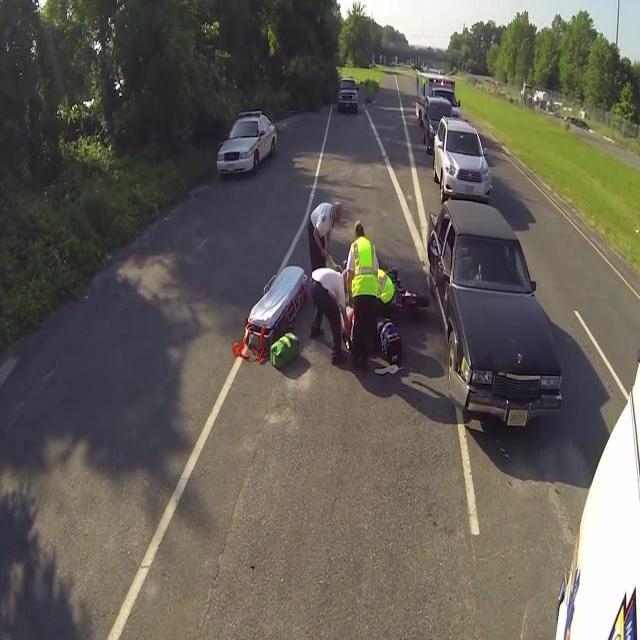Vest: (351, 237, 379, 296), (377, 269, 397, 304)
